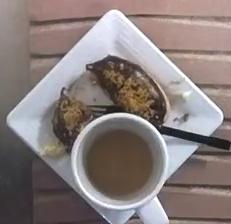dessert: (87, 55, 169, 126), (53, 88, 91, 151)
